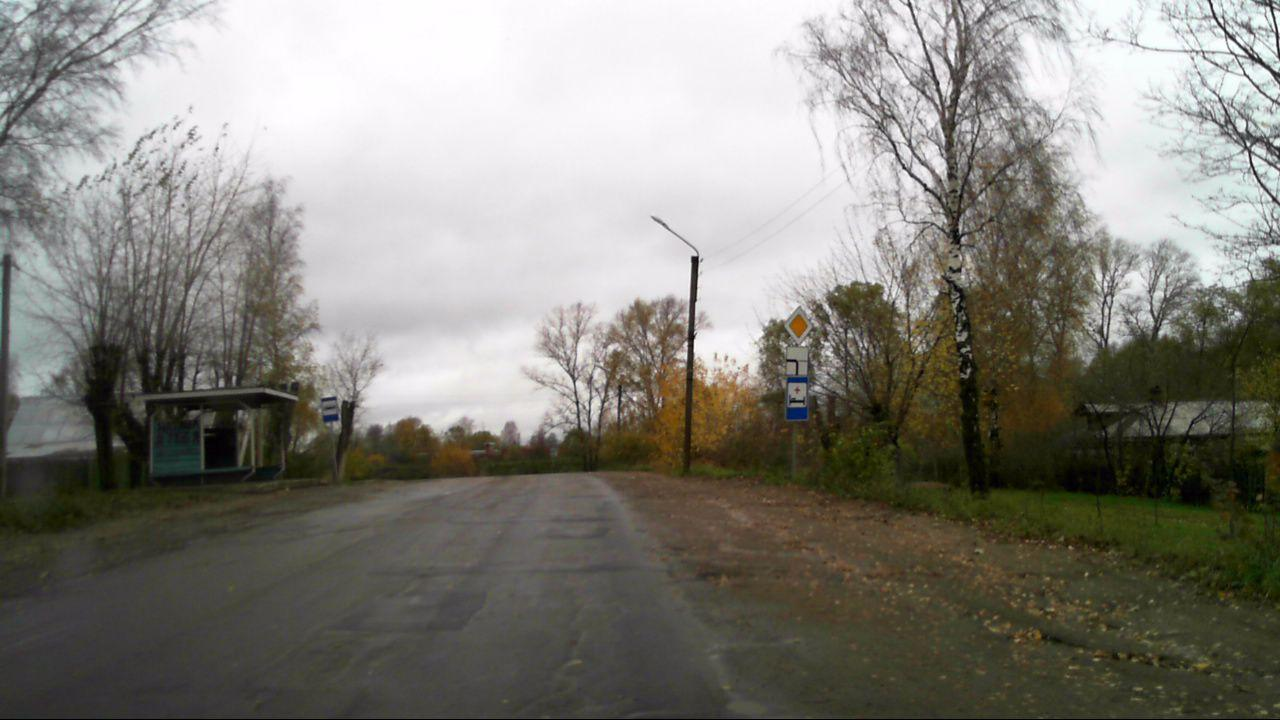2_1: (786, 305, 813, 344)
5_16: (321, 394, 340, 422)
7_2: (785, 376, 809, 421)
8_13: (786, 346, 809, 375)
